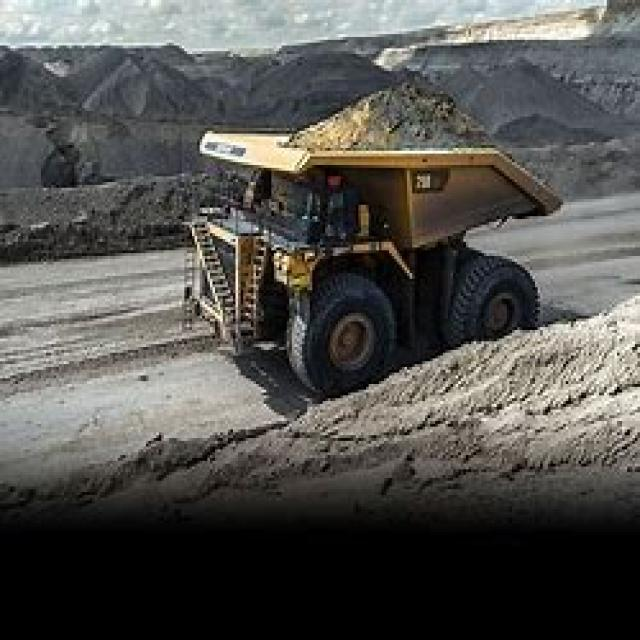dump_truck: (182, 77, 560, 367)
